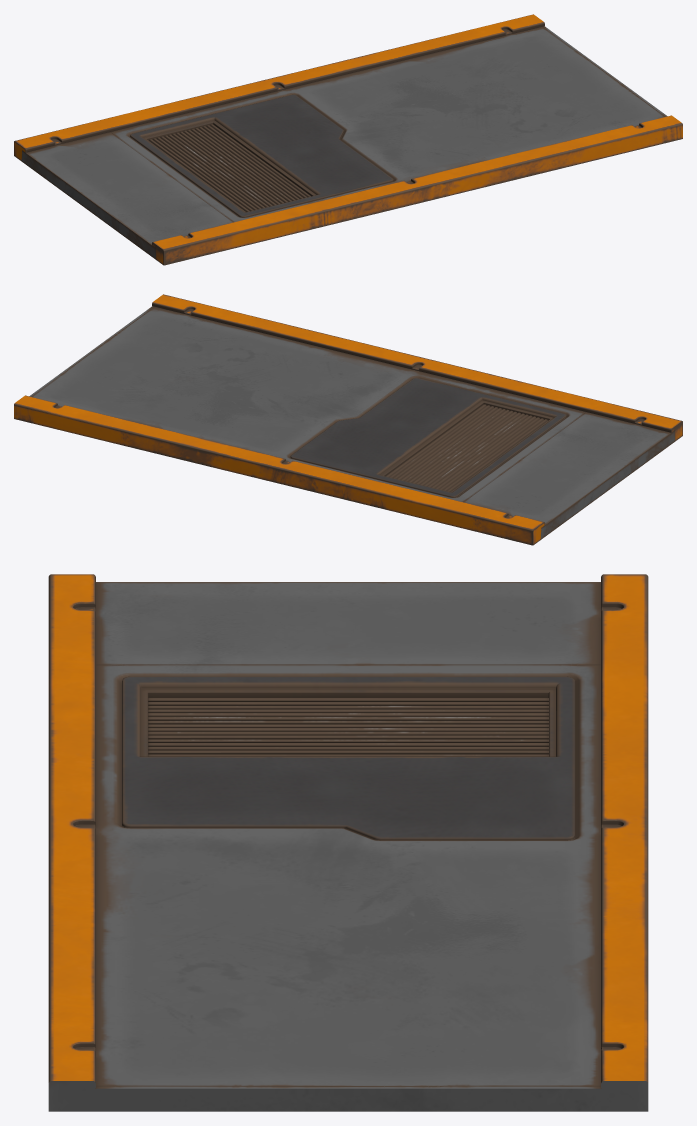
Rendered from SM_RoomStyle_Floor06.fbx.
3 renders of one model, top to bottom at view 1: azimuth 30°, elevation 25°; view 2: azimuth 150°, elevation 25°; view 3: azimuth 270°, elevation 25°, orthographic. The views are drawn at different scales.
Visible parts, largest first — view 1: SM_RoomStyle_Floor06_LOD0; view 2: SM_RoomStyle_Floor06_LOD0; view 3: SM_RoomStyle_Floor06_LOD0.
Part boxes in pixels (x1,y1,x2,y2): SM_RoomStyle_Floor06_LOD0: (14, 14, 682, 265); SM_RoomStyle_Floor06_LOD0: (14, 294, 682, 545); SM_RoomStyle_Floor06_LOD0: (48, 574, 648, 1111).
Bounding box in the file's own units: 260 × 130 × 7.34.
2 materials, 1 textured.
